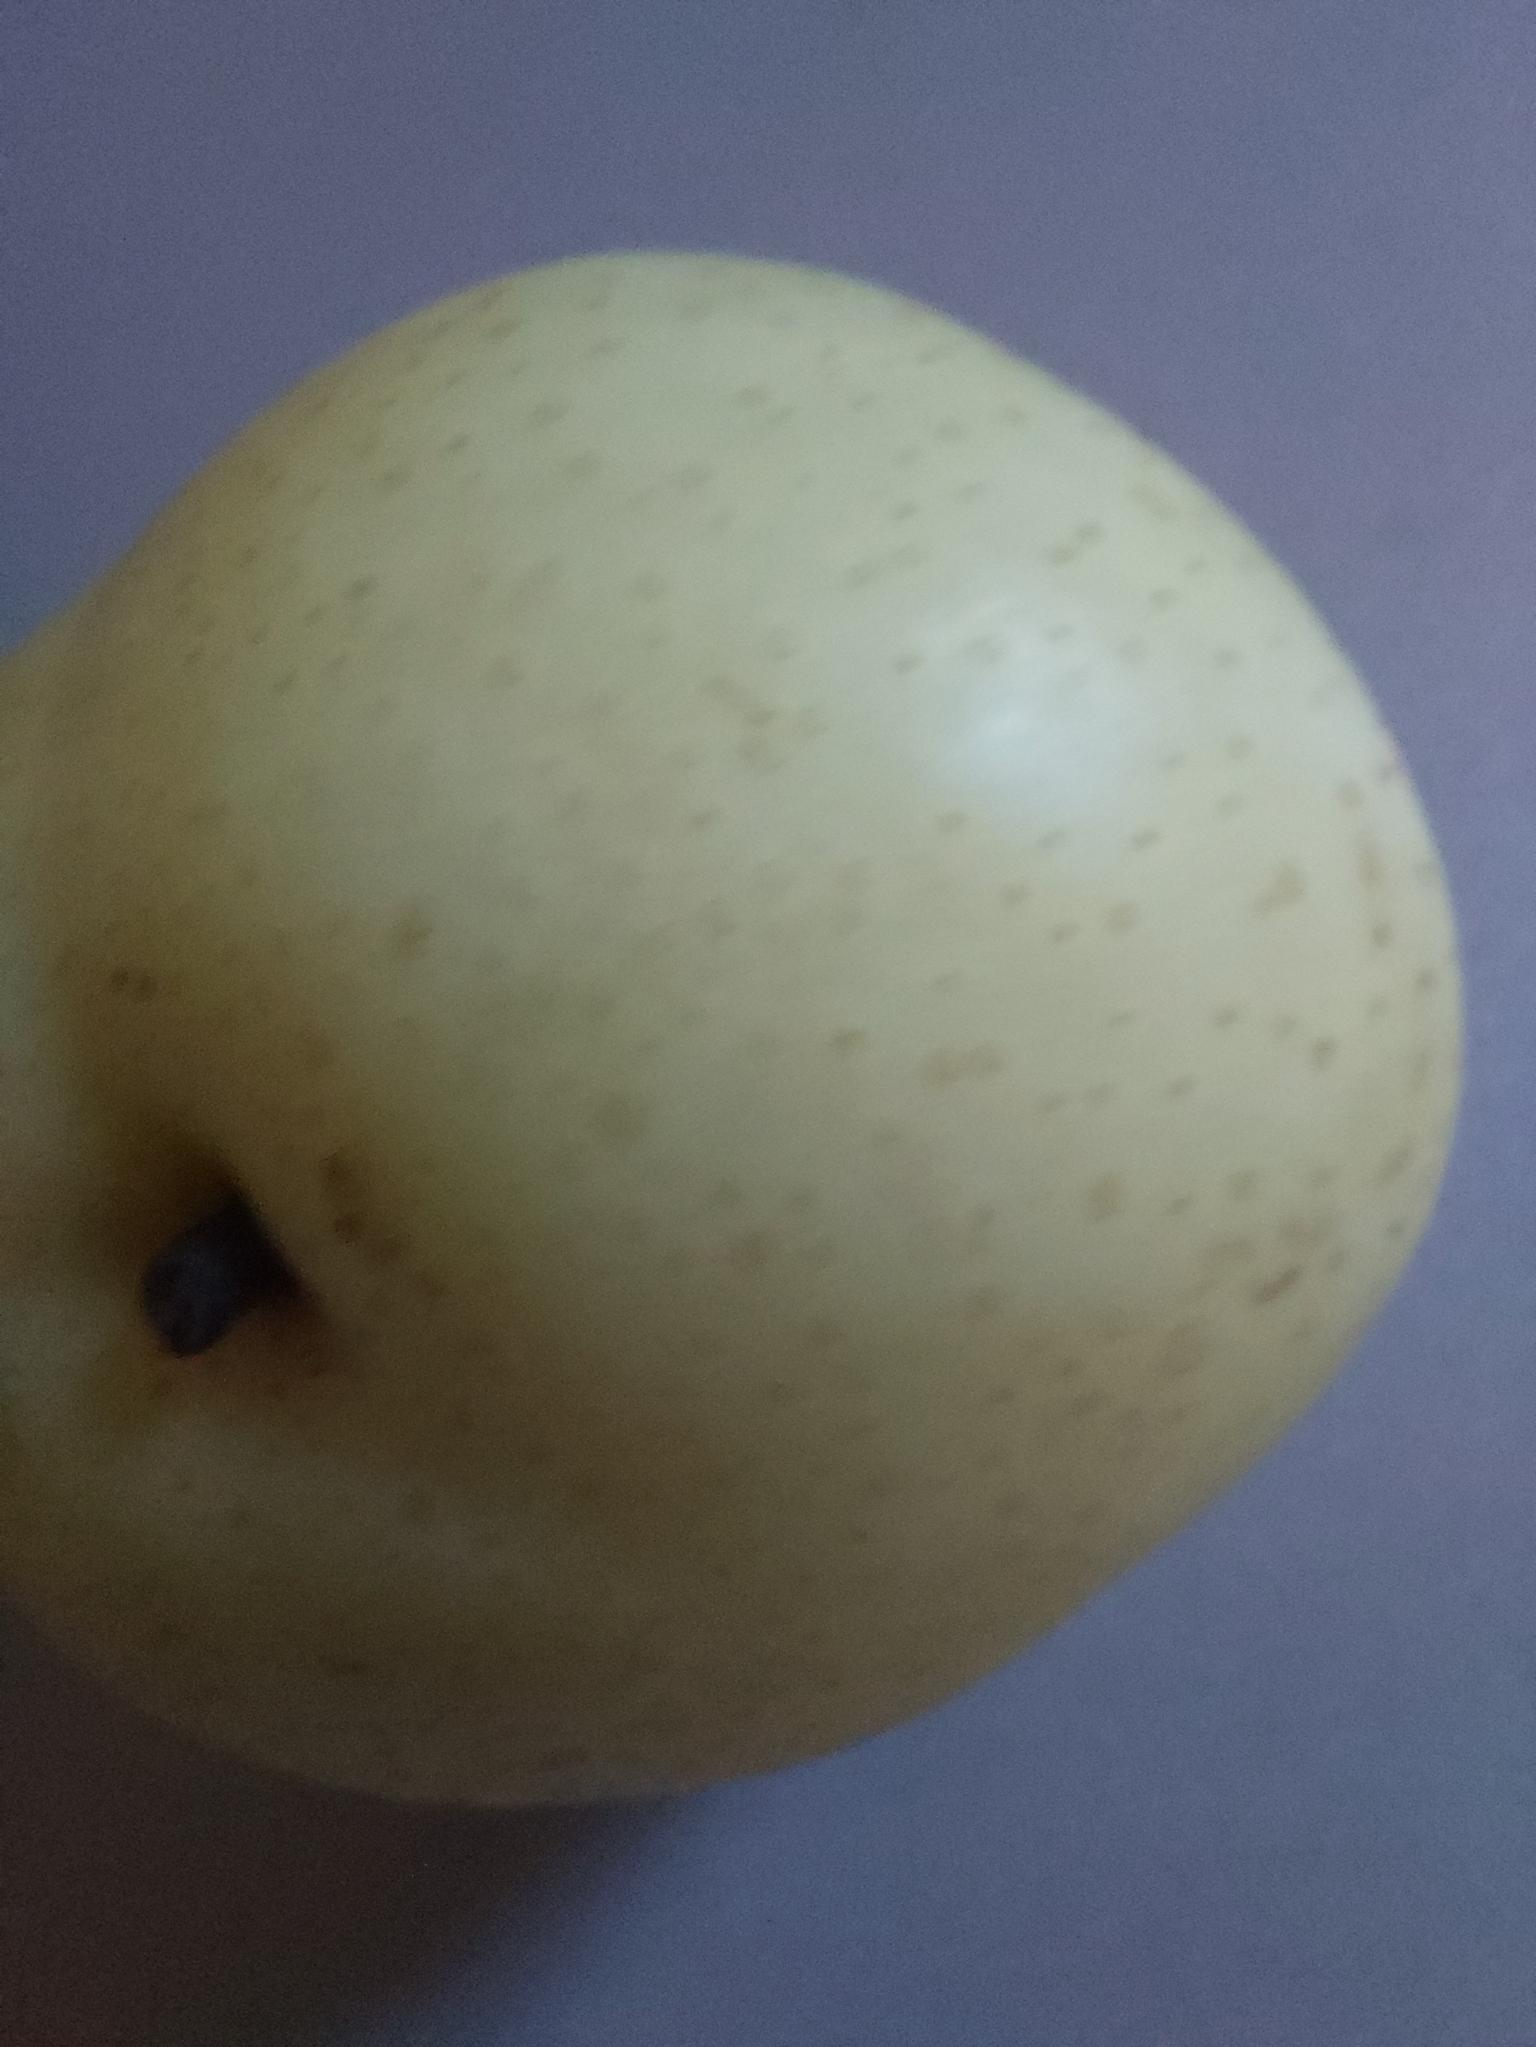Good Pear: (8, 132, 1536, 1903)
